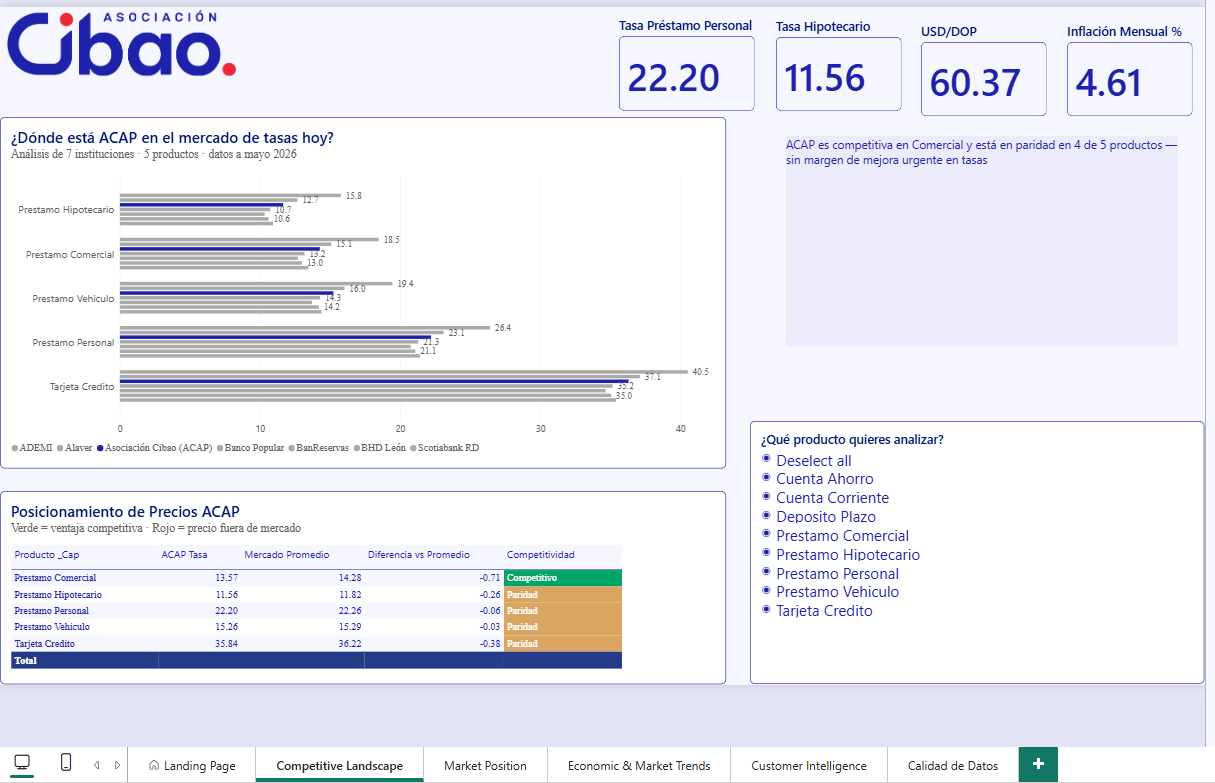

What the dashboard file says about the page in this screenshot:
{"tool":"powerbi","page":{"name":"Competitive Landscape","canvas":[1920,1080],"ordinal":1},"visuals":[{"type":"clusteredBarChart","title":"¿Dónde está ACAP en el mercado de tasas hoy?","fields":{"Category":["product_rates.Producto_cap"],"Series":["product_rates.institucion"],"Y":["Avg(product_rates.tasa_activa)"]},"box":[0,175.1,1156.8,560.2],"z":0},{"type":"tableEx","title":"Posicionamiento de Precios ACAP","fields":{"Values":["analysis_pricing.Producto _Cap","Sum(analysis_pricing.acap_tasa)","Sum(analysis_pricing.mercado_promedio)","Sum(analysis_pricing.diferencia_vs_promedio)","analysis_pricing.competitividad"]},"box":[0,771.6,1156.8,308.4],"z":1000},{"type":"cardVisual","fields":{"Data":["Avg(bcrd_indicators.tipo_cambio_venta)"]},"box":[1435.1,25,200.2,150.1],"z":2000},{"type":"cardVisual","fields":{"Data":["Sum(analysis_pricing.acap_tasa)"]},"box":[1195.4,25,200.2,150.1],"z":3000},{"type":"cardVisual","fields":{"Data":["Sum(analysis_pricing.acap_tasa)"]},"box":[955.7,24.6,200.2,150.1],"z":4000},{"type":"cardVisual","fields":{"Data":["Avg(bcrd_indicators.inflacion)"]},"box":[1674.7,24.6,200.2,150.1],"z":5000},{"type":"listSlicer","title":"¿Qué producto quieres analizar?","fields":{"Values":["product_rates.Producto_cap"]},"box":[1194.5,660.4,723.6,419.2],"z":6000},{"type":"image","box":[0,0,383.6,113.1],"z":7000},{"type":"textbox","box":[1251.9,204.8,624,335],"z":8000}]}

Visuals, with their boxes on the page's 1920x1080 design canvas (x1, y1, x2, y2). These are canvas units, not pixel positions in the 1215x783 screenshot, which may show the page scaled, cropped or inside an application window:
"¿Dónde está ACAP en el mercado de tasas hoy?" clusteredBarChart: (left=0, top=175, right=1157, bottom=735)
"Posicionamiento de Precios ACAP" tableEx: (left=0, top=772, right=1157, bottom=1080)
cardVisual - Avg(bcrd_indicators.tipo_cambio_venta): (left=1435, top=25, right=1635, bottom=175)
cardVisual - Sum(analysis_pricing.acap_tasa): (left=1195, top=25, right=1396, bottom=175)
cardVisual - Sum(analysis_pricing.acap_tasa): (left=956, top=25, right=1156, bottom=175)
cardVisual - Avg(bcrd_indicators.inflacion): (left=1675, top=25, right=1875, bottom=175)
"¿Qué producto quieres analizar?" listSlicer: (left=1194, top=660, right=1918, bottom=1080)
image: (left=0, top=0, right=384, bottom=113)
textbox: (left=1252, top=205, right=1876, bottom=540)
